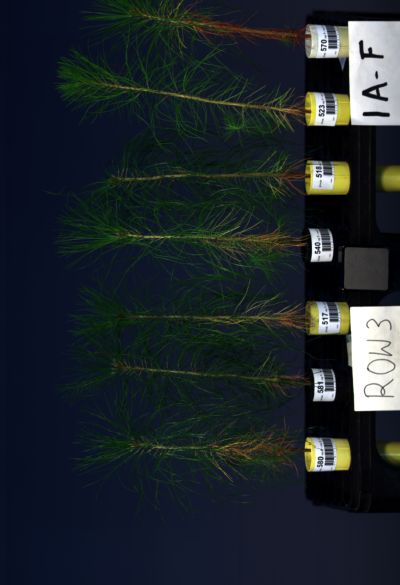tube: (306, 21, 349, 60), (306, 89, 349, 128), (305, 363, 348, 402), (307, 299, 350, 338), (302, 226, 345, 265), (307, 157, 350, 196), (307, 436, 350, 475)
